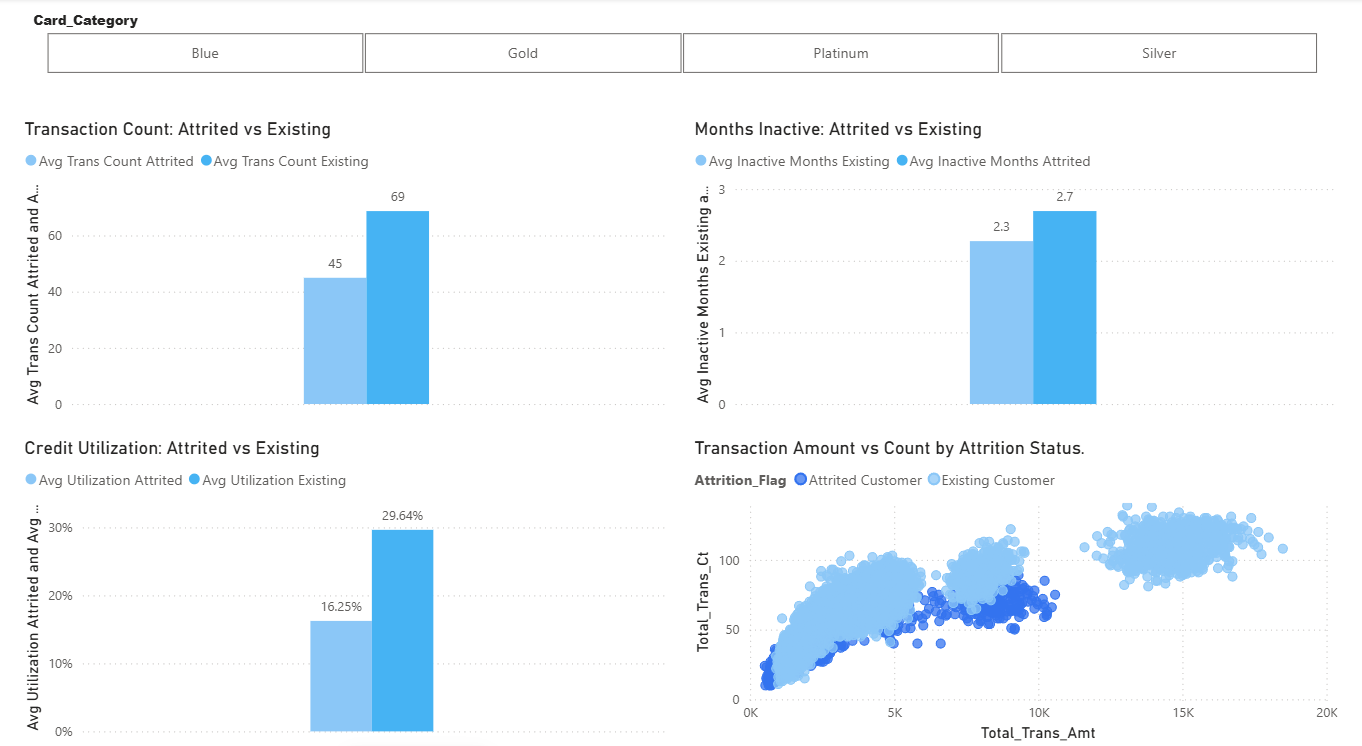

The dashboard page shown, as its layout file describes it:
{"tool":"powerbi","page":{"name":"Behavioral Signals","canvas":[1280,720],"ordinal":1},"visuals":[{"type":"clusteredColumnChart","title":"Transaction Count: Attrited vs Existing","fields":{"Y":["bankchurners_cleaned.Avg Trans Count Attrited","bankchurners_cleaned.Avg Trans Count Existing"]},"box":[24,112,608,280],"z":0},{"type":"clusteredColumnChart","title":"Months Inactive: Attrited vs Existing","fields":{"Y":["bankchurners_cleaned.Avg Inactive Months Existing","bankchurners_cleaned.Avg Inactive Months Attrited"]},"box":[648,112,608,280],"z":1000},{"type":"clusteredColumnChart","title":"Credit Utilization: Attrited vs Existing","fields":{"Y":["bankchurners_cleaned.Avg Utilization Attrited","bankchurners_cleaned.Avg Utilization Existing"]},"box":[24,408,608,288],"z":2000},{"type":"scatterChart","title":"Transaction Amount vs Count by Attrition Status.","fields":{"Series":["bankchurners_cleaned.Attrition_Flag"],"X":["bankchurners_cleaned.Total_Trans_Amt"],"Y":["bankchurners_cleaned.Total_Trans_Ct"]},"box":[648,408,608,288],"z":3000},{"type":"slicer","fields":{"Values":["bankchurners_cleaned.Card_Category"]},"box":[24.4,0,1231.4,76.7],"z":4000}]}

Visuals, with their boxes in screenshot pixels (x1, y1, x2, y2), scaled from the page's 1280x720 canvas onto the 1362x746 screenshot:
"Transaction Count: Attrited vs Existing" clusteredColumnChart: box=[26, 116, 672, 406]
"Months Inactive: Attrited vs Existing" clusteredColumnChart: box=[690, 116, 1336, 406]
"Credit Utilization: Attrited vs Existing" clusteredColumnChart: box=[26, 423, 672, 721]
"Transaction Amount vs Count by Attrition Status." scatterChart: box=[690, 423, 1336, 721]
slicer - bankchurners_cleaned.Card_Category: box=[26, 0, 1336, 79]
